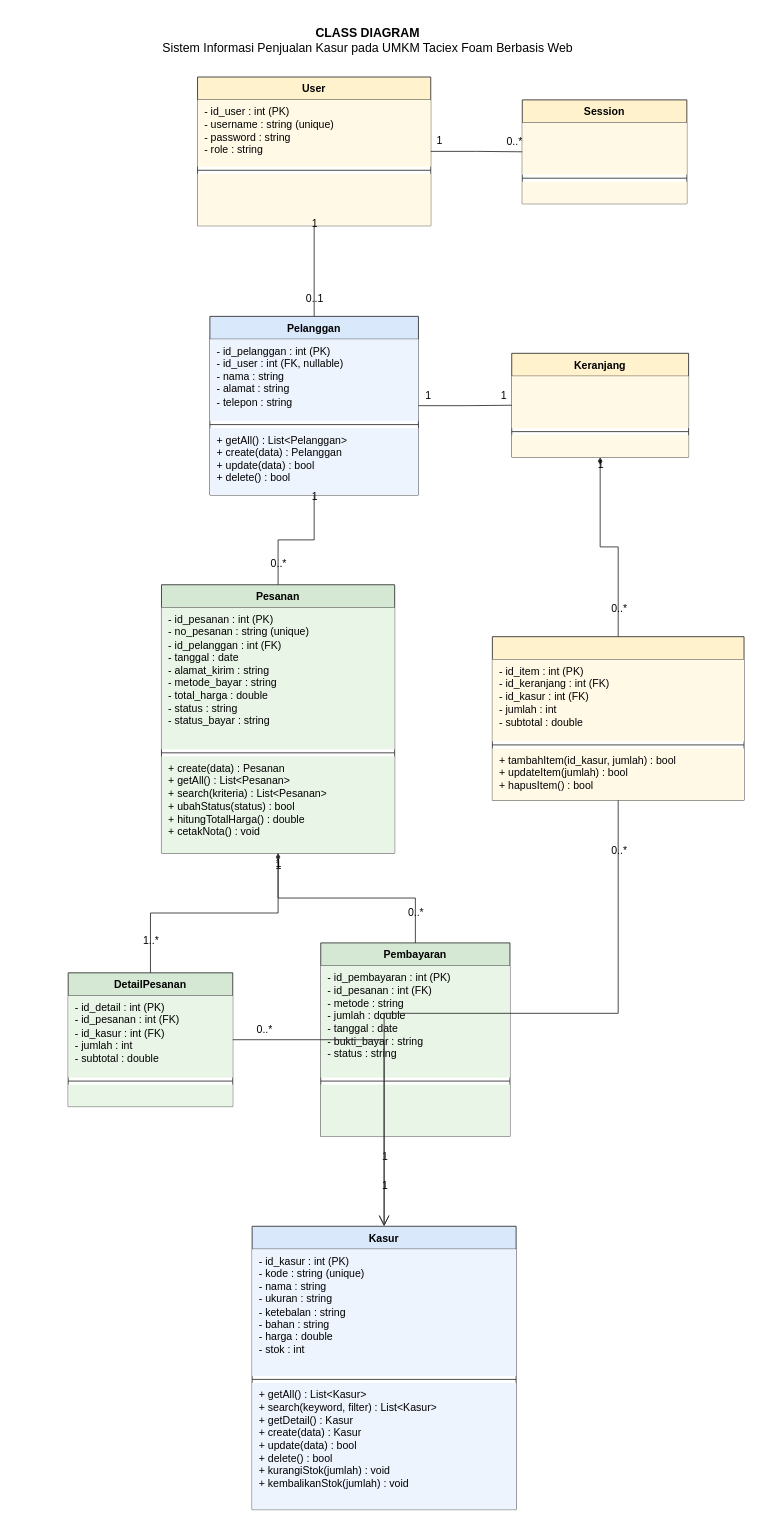
Some shapes in this 759 by 1527 pixel diagram are drawn without their labels. Each missing label, with the box of its shape:
+ create(data) : Pembayaran + verifikasi() : bool + tolak() : bool: (320, 1084, 510, 1136)
+ hapusSession() : void: (522, 181, 686, 203)
+ hitungTotal() : double: (511, 435, 688, 457)
+ login(username, password) : bool + registrasi(data) : bool + logout() : void: (197, 173, 430, 225)
+ saveDetail() : bool: (68, 1084, 232, 1106)
- id_keranjang : int (PK) - id_pelanggan : int (FK) - total : double: (511, 376, 688, 428)
- id_session : int (PK) - id_user : int (FK) - login_at : datetime: (522, 122, 686, 174)
ItemKeranjang: (491, 636, 744, 800)
